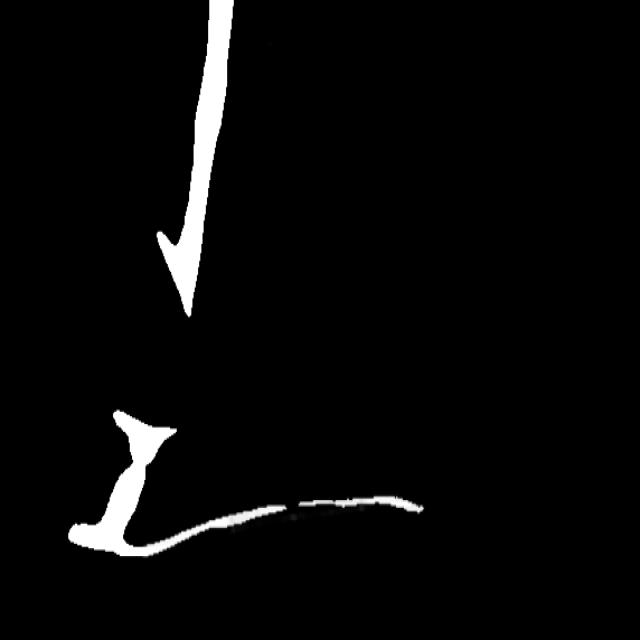sup: (275, 495, 310, 521)
